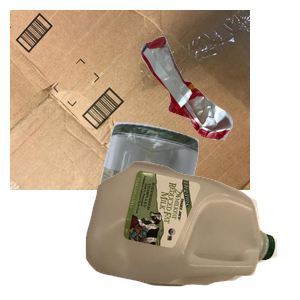cardboard: (10, 10, 250, 190)
glass: (86, 120, 277, 300)
plastic: (83, 159, 300, 300)
trash: (139, 34, 300, 167)
